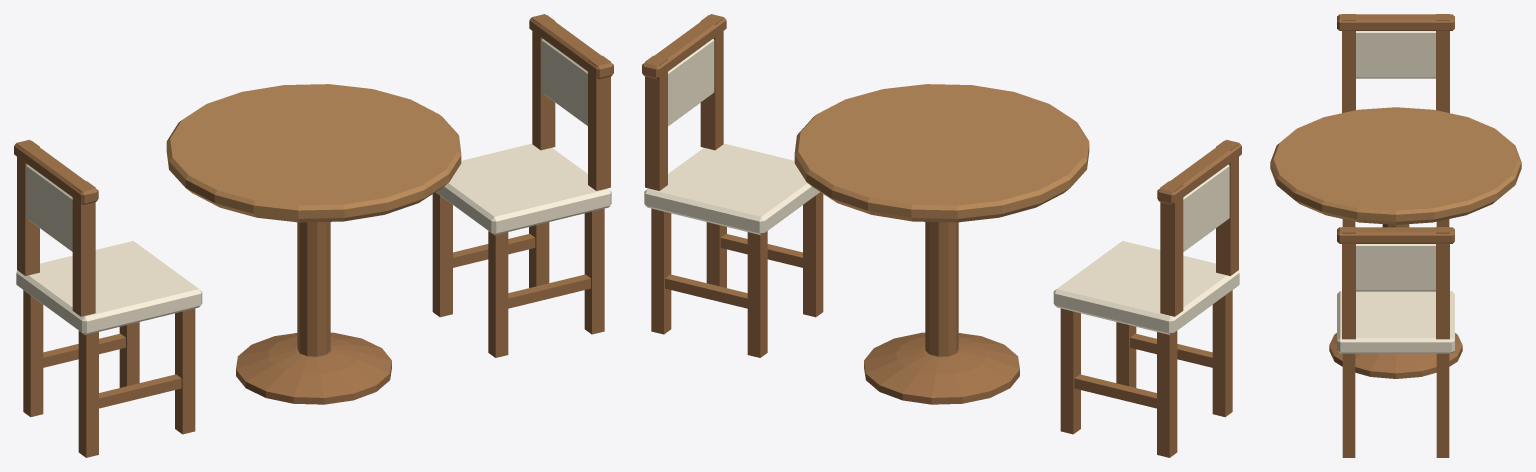
The model's file is table-set.glb.
3 renders of one model, left to right at view 1: azimuth 30°, elevation 25°; view 2: azimuth 150°, elevation 25°; view 3: azimuth 270°, elevation 25°, orthographic. The views are drawn at different scales.
Parts seen in each view (by area): view 1: table-set; view 2: table-set; view 3: table-set.
Part boxes in pixels (x1=…): table-set: x1=14, y1=14, x2=613, y2=457; table-set: x1=642, y1=14, x2=1241, y2=457; table-set: x1=1270, y1=14, x2=1521, y2=457.
Size of the model in its own units: 0.664 by 0.32 by 0.32.
